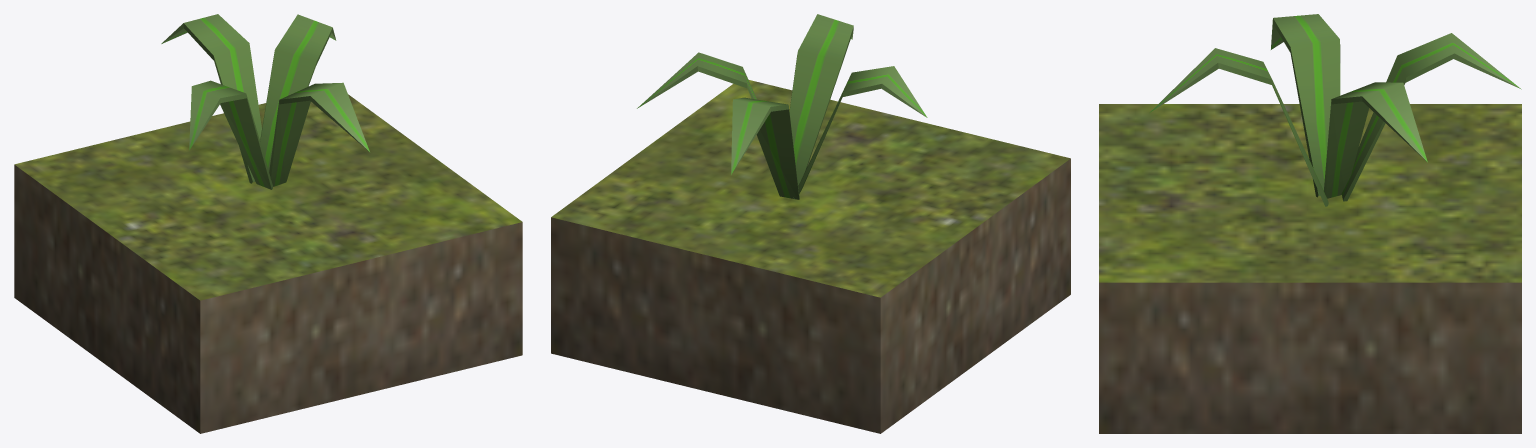
Rendered from jun_boundary_plant.obj.
3 views of the same model, side by side, from view 1: azimuth 30°, elevation 25°; view 2: azimuth 150°, elevation 25°; view 3: azimuth 270°, elevation 25° (orthographic). The views are drawn at different scales.
Visible parts, largest first — view 1: grass_earth_1; view 2: grass_earth_1; view 3: grass_earth_1.
Part boxes in pixels (x1,y1,x2,y2): grass_earth_1: (14, 14, 522, 433); grass_earth_1: (551, 14, 1070, 433); grass_earth_1: (1099, 14, 1521, 433).
Size of the model in its own units: 1 by 0.7857 by 1.
1 material, 1 textured.
